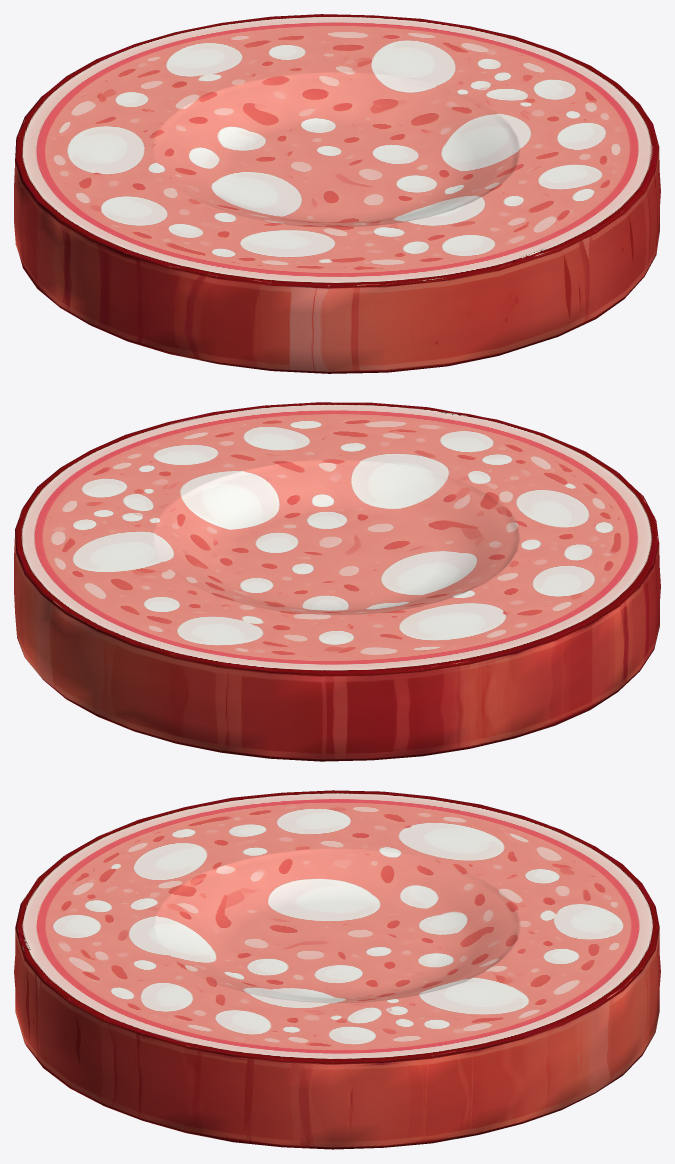
The model's file is sausage_slice.fbx.
3 views of the same model, one above another, from view 1: azimuth 30°, elevation 25°; view 2: azimuth 150°, elevation 25°; view 3: azimuth 270°, elevation 25° (orthographic).
Visible parts, largest first — view 1: Mesh_0.002; view 2: Mesh_0.002; view 3: Mesh_0.002.
Part boxes in pixels (x1,y1,x2,y2): Mesh_0.002: [14, 14, 660, 373]; Mesh_0.002: [14, 402, 660, 761]; Mesh_0.002: [14, 790, 660, 1149].
Bounding box in the file's own units: 38.12 × 5.71 × 38.12.
Materials: 1 (1 with a texture image).
